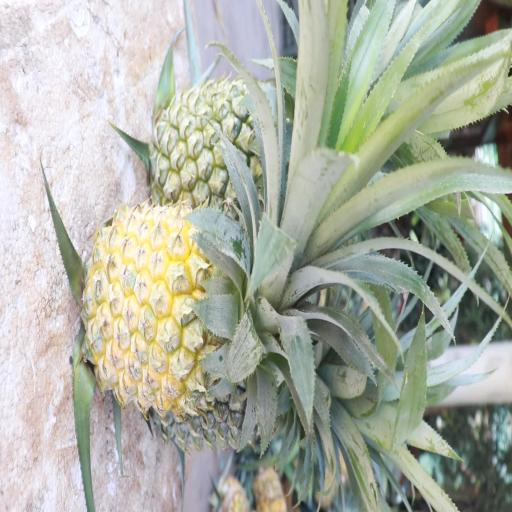------------------------------: (154, 66, 300, 220)
Pineapple - v8 v1: (87, 197, 312, 420)
